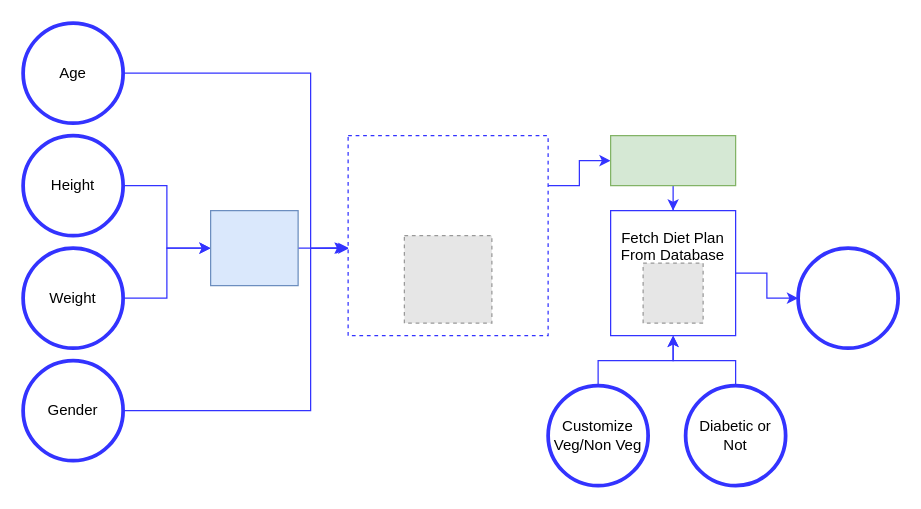
Some shapes in this 921 by 509 pixel diagram are drawn without their labels. Grey dashed boxes stand in for pictures. The box of each missing label's shape, as (x1, y1, x2, y2) in pixels:
Calculate BMI: (209, 209, 298, 286)
Display Final Result: (796, 246, 899, 349)
Fetch ML Model (Random Forest Algorithm): (347, 134, 548, 336)
Outputs a diet plan Category: (609, 134, 736, 186)
